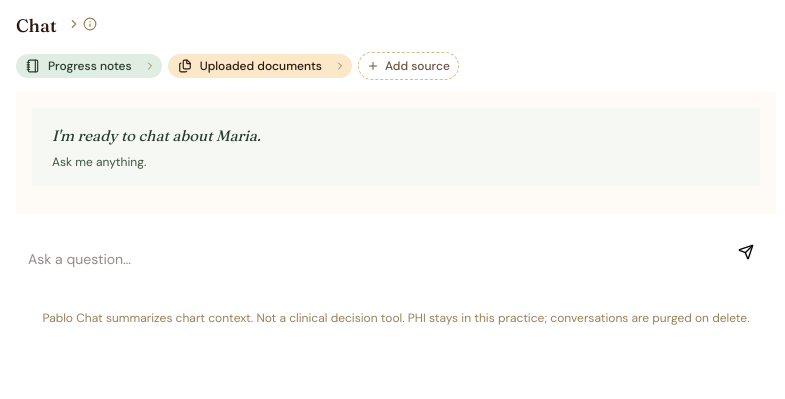
Test: ChatPanel — error states › renders the context_too_large notice with a 'Reset to defaults' remedy
This screenshot has width=785, height=399.
Type "explain" into the text box named "Message" at (374, 260), box [28,248,720,272]
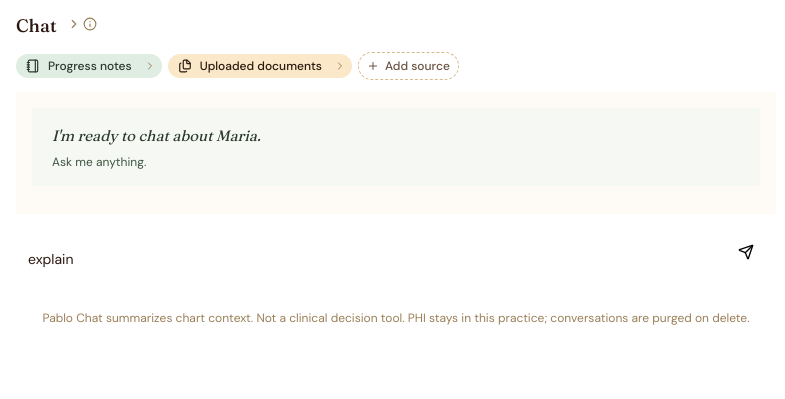
Click the button named "Send" at (746, 252), box [728,234,764,270]
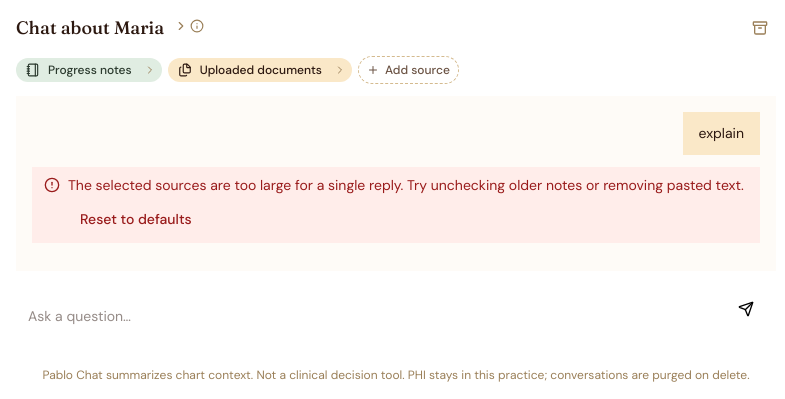
expect the button "Reset to defaults" is shown: met, box [68,203,204,235]
